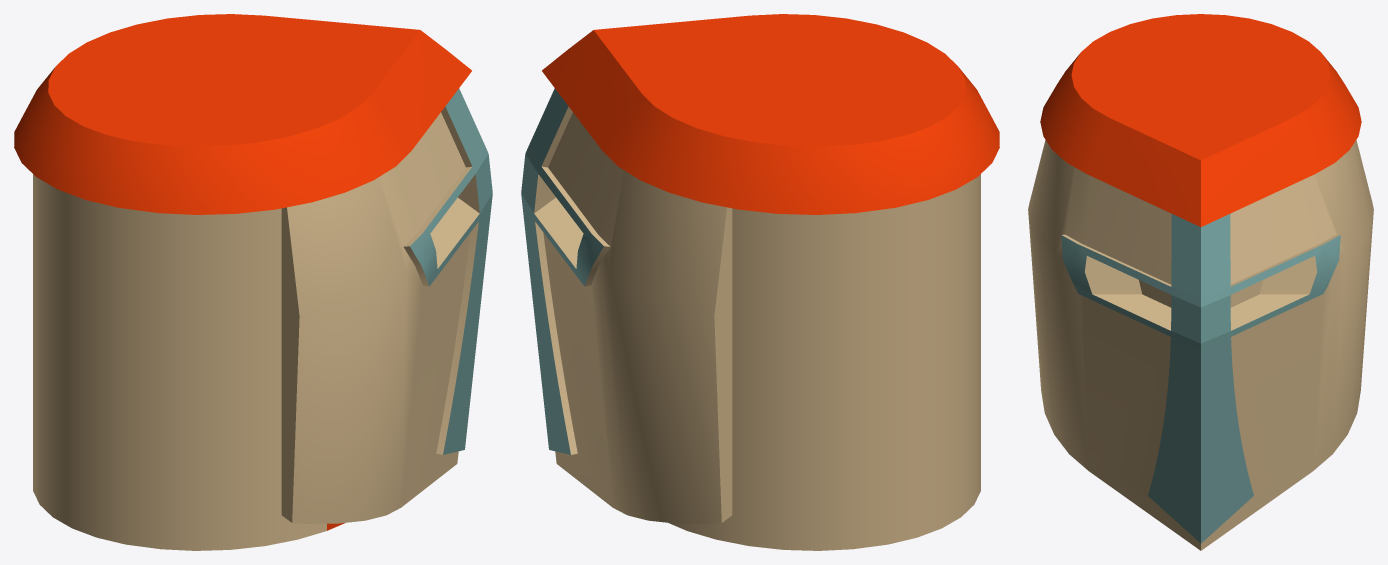
File: helmet.fbx
3 renders of one model, left to right at view 1: azimuth 30°, elevation 25°; view 2: azimuth 150°, elevation 25°; view 3: azimuth 270°, elevation 25°, orthographic. The views are drawn at different scales.
Visible parts, largest first — view 1: Slice, Cube.005; view 2: Slice, Cube.005; view 3: Cube.005, Slice.
Boxes of the visible parts, x1,y1,x2,y2 form: Slice: (14, 14, 471, 550); Cube.005: (281, 88, 492, 523); Slice: (542, 14, 999, 550); Cube.005: (521, 88, 732, 523); Cube.005: (1028, 140, 1373, 550); Slice: (1040, 14, 1361, 307).
Size of the model in its own units: 77.5 by 100 by 92.79.
